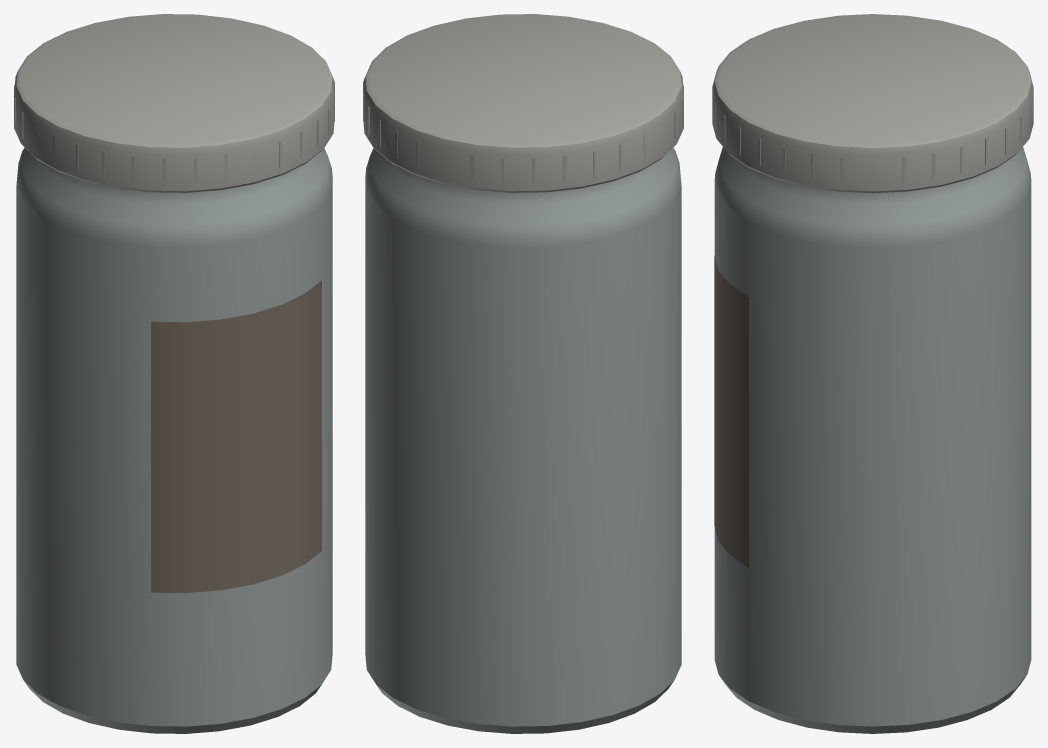
File: coffee-glass-canister-23b6d1cc8695.glb
The picture shows the model from 3 angles, left to right: view 1: azimuth 30°, elevation 25°; view 2: azimuth 150°, elevation 25°; view 3: azimuth 270°, elevation 25°; orthographic projection.
Parts seen in each view (by area): view 1: glass-clear, brushed, cover-print; view 2: glass-clear, brushed; view 3: glass-clear, brushed, cover-print.
Part boxes in pixels (x1,y1,x2,y2): glass-clear: [16, 147, 332, 733]; brushed: [14, 14, 334, 192]; cover-print: [151, 280, 321, 593]; glass-clear: [365, 147, 681, 733]; brushed: [363, 14, 683, 192]; glass-clear: [714, 147, 1031, 733]; brushed: [712, 14, 1033, 193]; cover-print: [714, 256, 748, 567].
Size of the model in its own units: 0.142 by 0.29 by 0.142.
